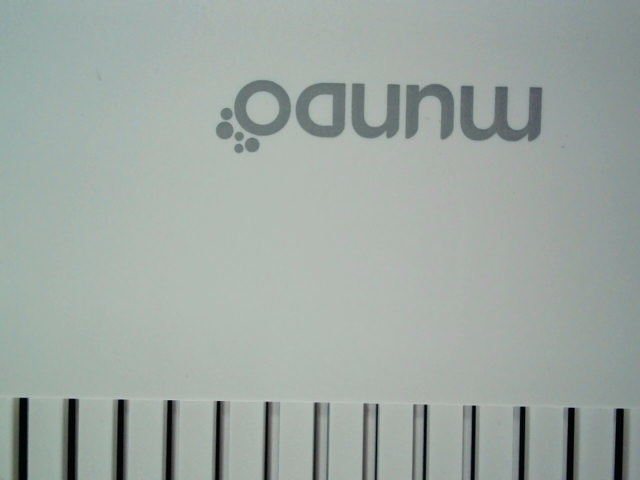BI_MUNDO: (204, 68, 559, 157)
